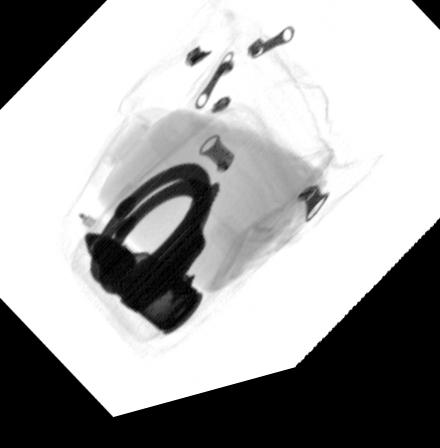Bullet: (83, 238, 204, 347)
HandCuffs: (87, 168, 224, 322)
